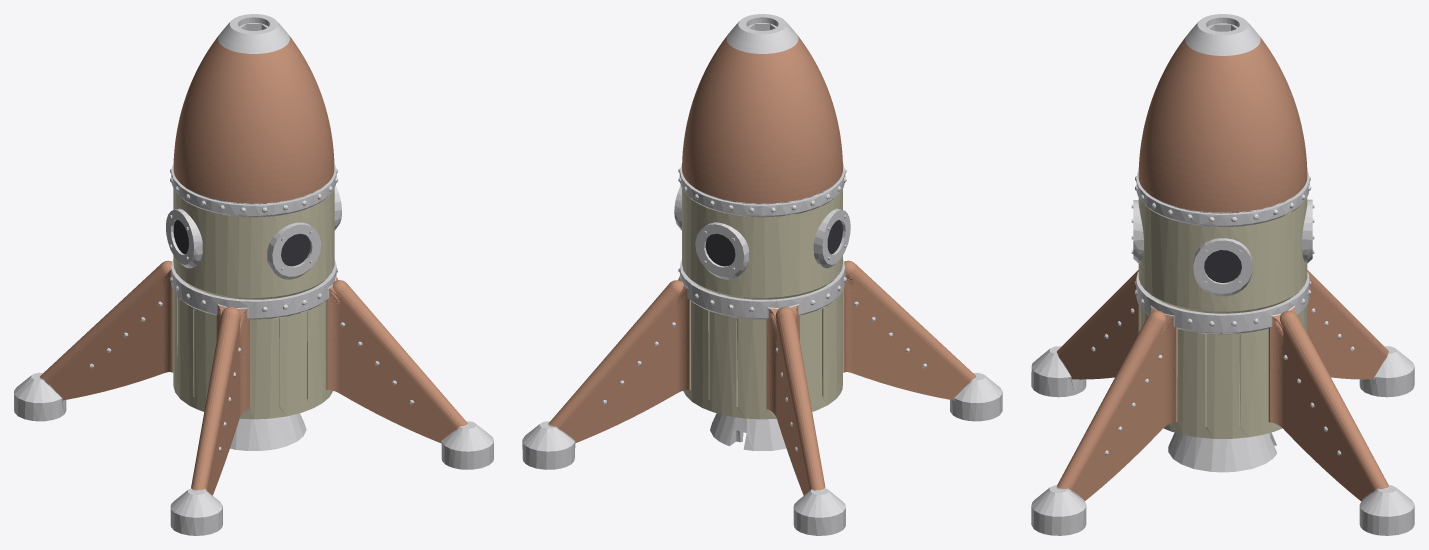
Rendered from rocket_d1.glb.
3 views of the same model, side by side, from view 1: azimuth 30°, elevation 25°; view 2: azimuth 150°, elevation 25°; view 3: azimuth 270°, elevation 25° (orthographic). The views are drawn at different scales.
Visible parts, largest first — view 1: Oxide, OxideNose, Khaki, KhakiA2, NickelA1, NickelA2, NickelNose, NickelCap, Blackout; view 2: Oxide, OxideNose, Khaki, KhakiA2, NickelA1, NickelA2, NickelNose, NickelCap, Blackout; view 3: Oxide, OxideNose, NickelA1, KhakiA2, Khaki, NickelA2, NickelCap, NickelNose, Blackout.
Boxes of the visible parts, x1,y1,x2,y2 form: Oxide: (40, 260, 467, 495); OxideNose: (173, 35, 334, 203); Khaki: (172, 276, 332, 419); KhakiA2: (173, 189, 334, 299); NickelA1: (14, 260, 493, 535); NickelA2: (166, 163, 341, 279); NickelNose: (218, 14, 289, 53); NickelCap: (230, 413, 306, 450); Blackout: (173, 220, 310, 266); Oxide: (549, 260, 975, 495); OxideNose: (682, 35, 842, 203); Khaki: (683, 277, 843, 419); KhakiA2: (682, 189, 842, 299); NickelA1: (522, 260, 1002, 535); NickelA2: (674, 163, 850, 279); NickelNose: (726, 14, 798, 53); NickelCap: (710, 413, 786, 450); Blackout: (705, 220, 842, 266); Oxide: (1057, 270, 1388, 501); OxideNose: (1138, 37, 1307, 212); NickelA1: (1031, 271, 1414, 535); KhakiA2: (1138, 197, 1307, 313); Khaki: (1138, 290, 1307, 438); NickelA2: (1131, 171, 1314, 296); NickelCap: (1168, 432, 1276, 472); NickelNose: (1185, 14, 1260, 55); Blackout: (1204, 250, 1241, 282).
Size of the model in its own units: 0.1817 by 0.225 by 0.1817.
